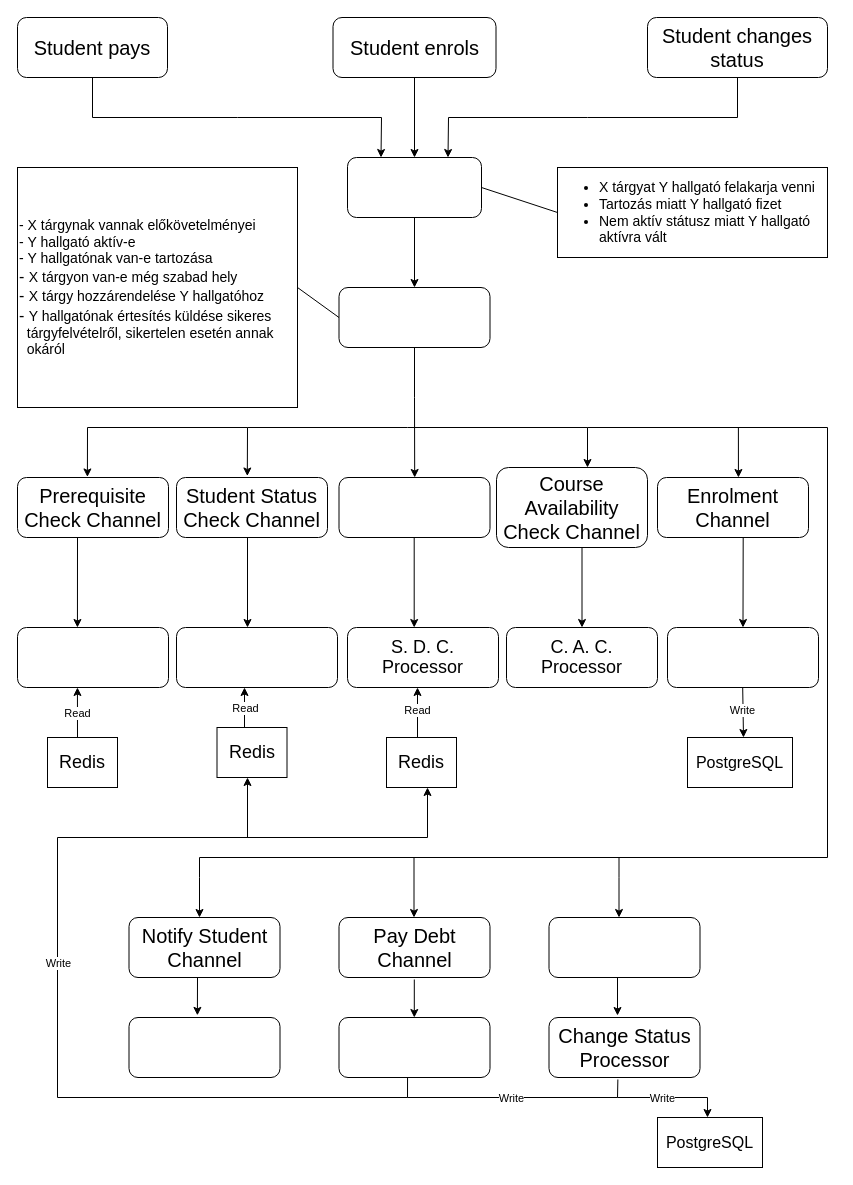
Some shapes in this 853 by 1185 pixel diagram are drawn without their labels. The shapes that lost their labels are listed below. From the top down, each one's box as (x1, y1, x2, y2) in pixels, then its label:
(346, 156, 482, 218): Event Queue
(338, 286, 490, 348): Event Mediator
(338, 476, 490, 538): Student Debt Check Channel
(16, 626, 168, 688): P. C. Processor
(176, 626, 338, 688): S. S. C. Processor
(666, 626, 818, 688): Enrolment Processor
(548, 916, 700, 978): Change Status Channel
(128, 1016, 280, 1078): Notify Student Processor
(338, 1016, 490, 1078): Pay Debt Processor
